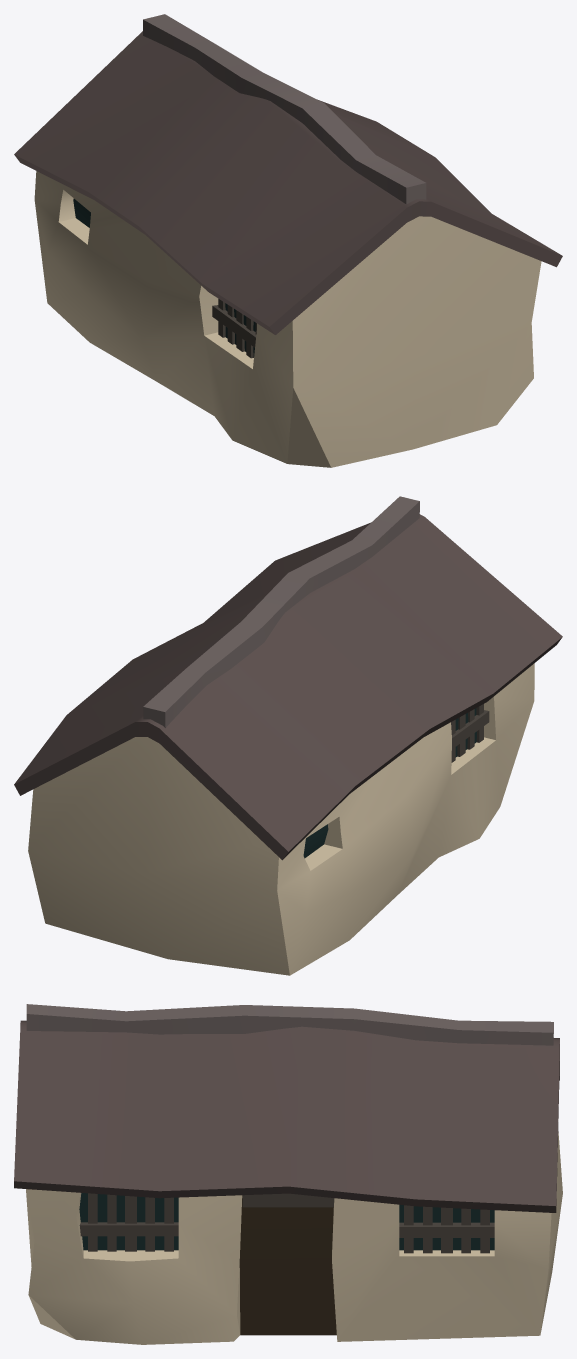
The model's file is Building_mode_L1_Northhouse004.fbx.
The picture shows the model from 3 angles, top to bottom: view 1: azimuth 30°, elevation 25°; view 2: azimuth 150°, elevation 25°; view 3: azimuth 270°, elevation 25°; orthographic projection.
Visible parts, largest first — view 1: Building_mode_L1_Northhouse004; view 2: Building_mode_L1_Northhouse004; view 3: Building_mode_L1_Northhouse004.
Part boxes in pixels (x1,y1,x2,y2): Building_mode_L1_Northhouse004: [14, 14, 562, 467]; Building_mode_L1_Northhouse004: [14, 496, 562, 975]; Building_mode_L1_Northhouse004: [14, 1004, 562, 1344].
Size of the model in its own units: 2.93 by 2.48 by 4.54.
